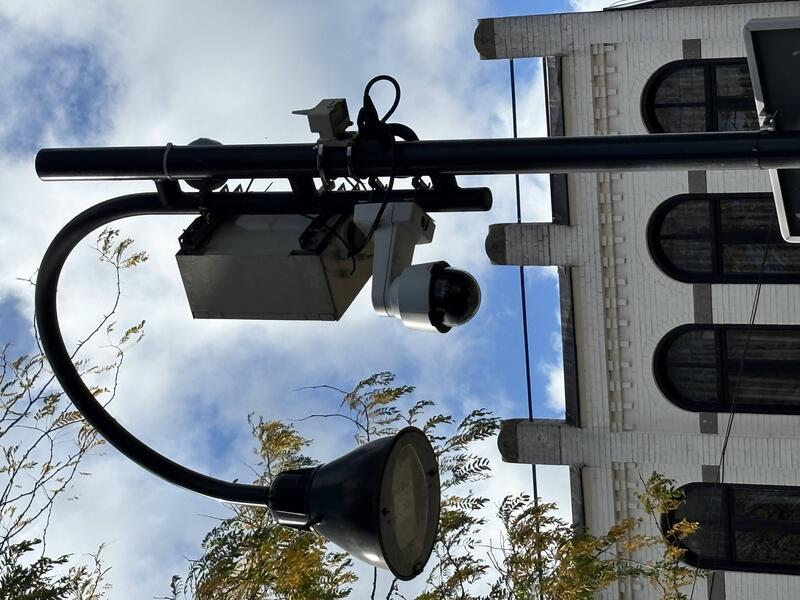dome: (260, 390, 343, 485)
